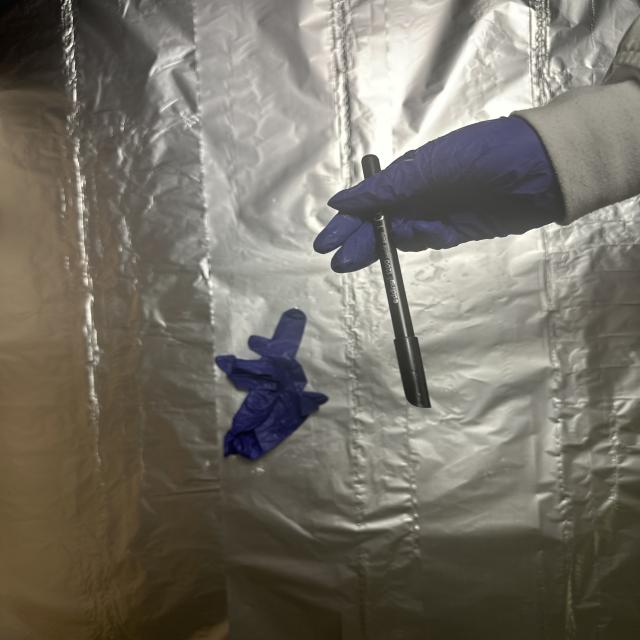gloves_contaminated: (315, 117, 564, 272)
